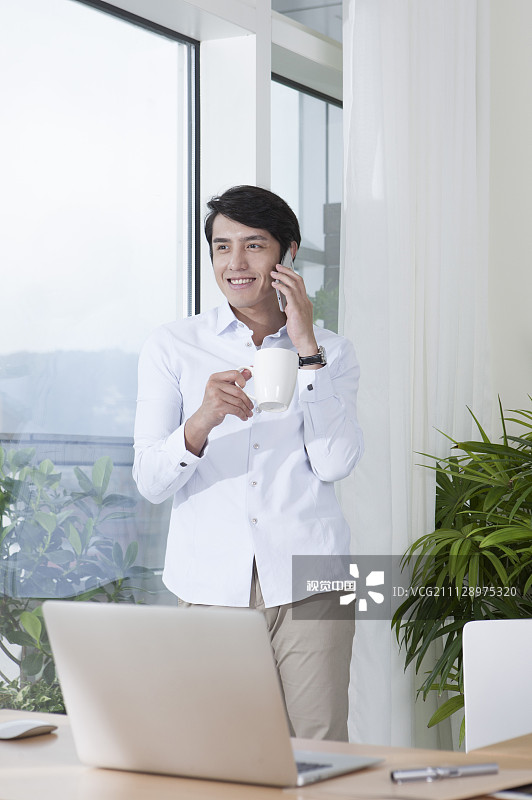calling: (254, 241, 354, 367)
no-phone: (186, 339, 315, 434)
